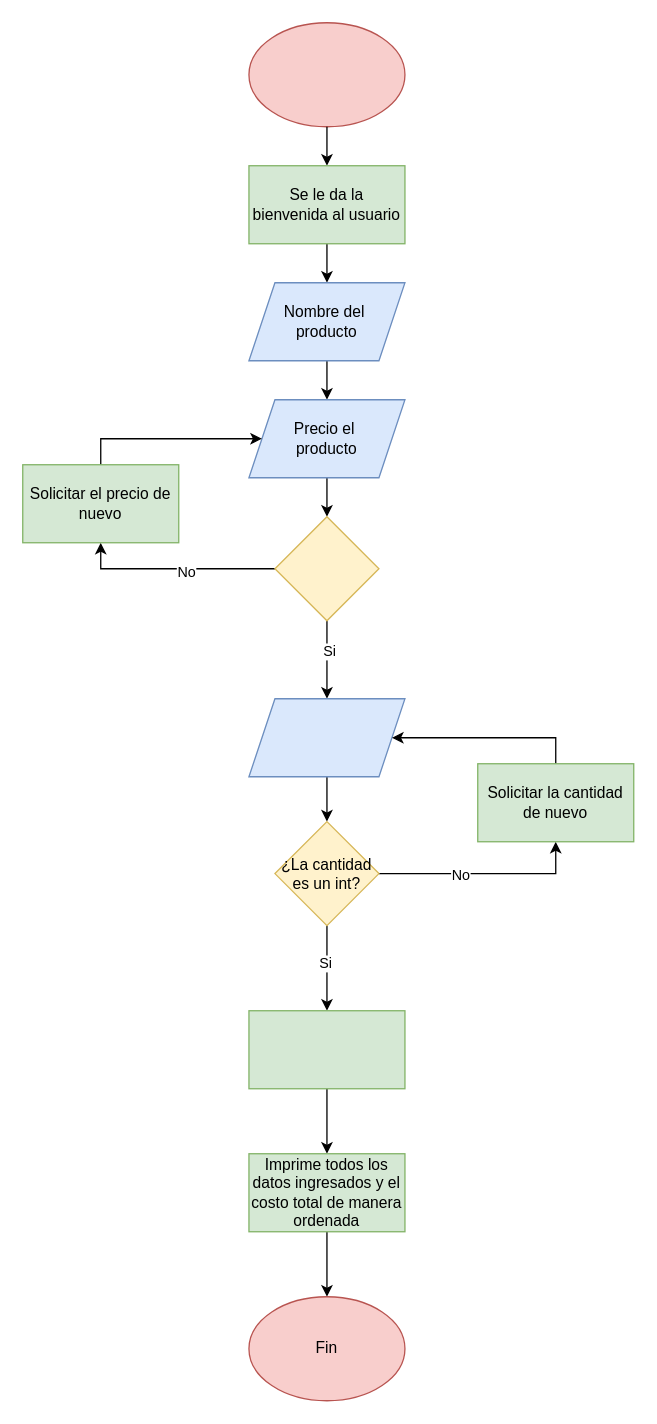
Some shapes in this 657 by 1424 pixel diagram are drawn without their labels. The shapes that lost their labels are listed below. From the top down, each one's centre as x and y in pixels, then its label:
At point (326, 74): "Ingresar un producto al sistema".
At point (326, 568): "¿El precio es un float?".
At point (326, 737): "Cantidad del producto".
At point (326, 1049): "Costo total= precio*cantidad".
